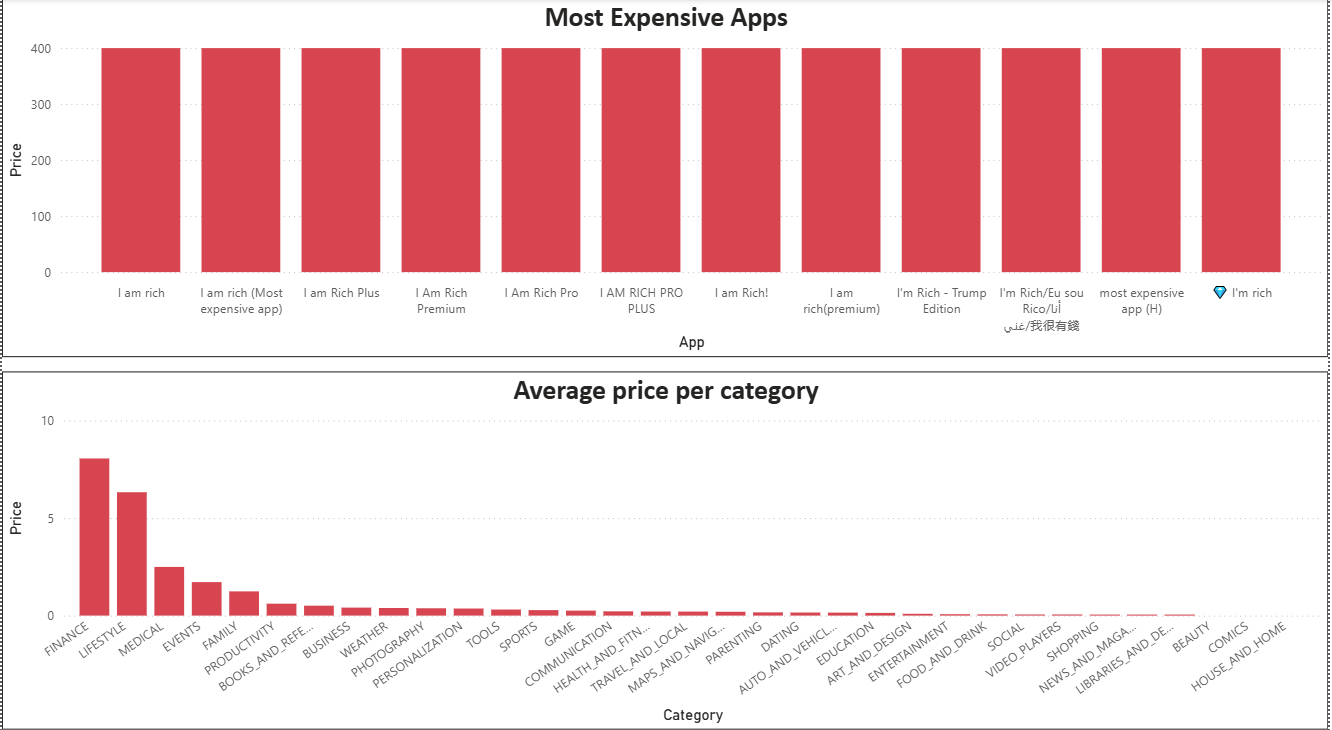

The dashboard page shown, as its layout file describes it:
{"tool":"powerbi","page":{"name":"Paid App Price Analysis – “Monetization”","canvas":[1280,720],"ordinal":3},"visuals":[{"type":"clusteredColumnChart","title":"Most Expensive Apps","fields":{"Y":["google cleaned for Power BI.Price"],"Category":["google cleaned for Power BI.App"]},"box":[0,0,1280.3,345.8],"z":0},{"type":"clusteredColumnChart","title":"Average price per category","fields":{"Y":["google cleaned for Power BI.Price"],"Category":["google cleaned for Power BI.Category"]},"box":[0,359.5,1280.3,345.8],"z":1}]}

Visuals, with their boxes in screenshot pixels (x1, y1, x2, y2), scaled from the page's 1280x720 canvas onto the 1332x730 screenshot:
"Most Expensive Apps" clusteredColumnChart: l=0, t=0, r=1331, b=351
"Average price per category" clusteredColumnChart: l=0, t=364, r=1331, b=715
